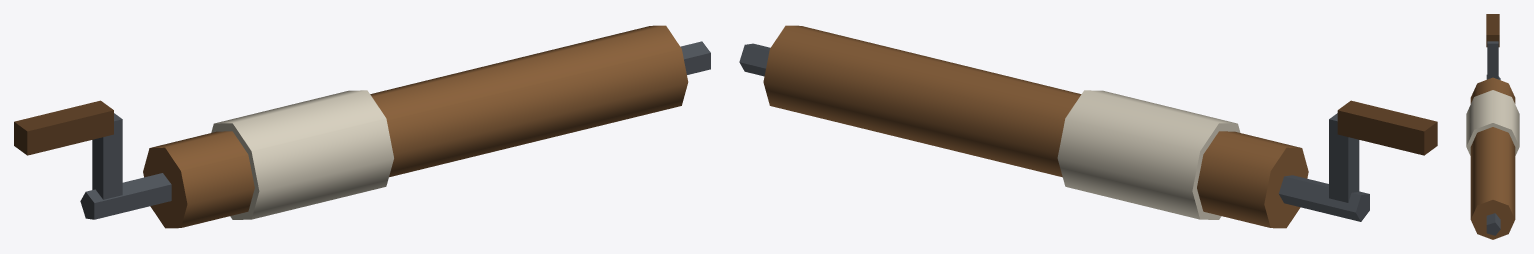
Rendered from crf_winch.glb.
3 views of the same model, side by side, from view 1: azimuth 30°, elevation 25°; view 2: azimuth 150°, elevation 25°; view 3: azimuth 270°, elevation 25° (orthographic). The views are drawn at different scales.
Visible parts, largest first — view 1: crf_winch; view 2: crf_winch; view 3: crf_winch.
Part boxes in pixels (<box>): crf_winch: <box>14,25,710,228</box>; crf_winch: <box>739,25,1437,228</box>; crf_winch: <box>1466,14,1519,239</box>.
Size of the model in its own units: 0.355 by 0.072 by 0.048.
